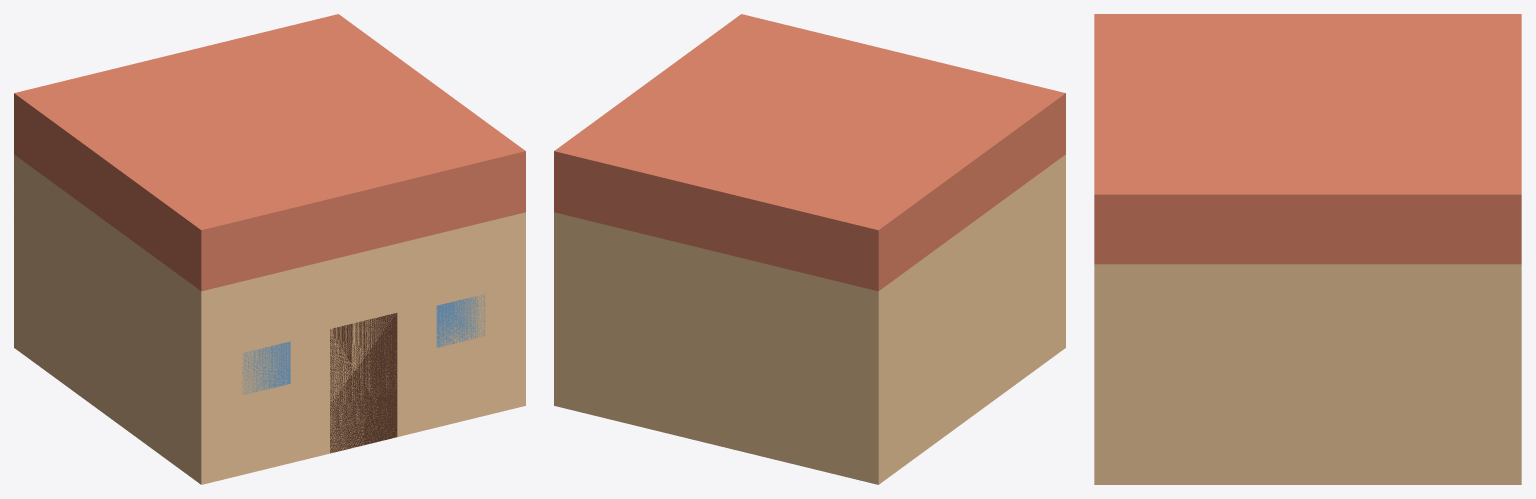
Rendered from gedung_rumah.fbx.
3 views of the same model, side by side, from view 1: azimuth 30°, elevation 25°; view 2: azimuth 150°, elevation 25°; view 3: azimuth 270°, elevation 25° (orthographic). The views are drawn at different scales.
Visible parts, largest first — view 1: gedung_rumah; view 2: gedung_rumah; view 3: gedung_rumah.
Part boxes in pixels (left/top/right/bottom): gedung_rumah: left=14, top=14, right=525, bottom=484; gedung_rumah: left=554, top=14, right=1065, bottom=484; gedung_rumah: left=1094, top=14, right=1521, bottom=484.
Size of the model in its own units: 600 by 450 by 600.
1 material, 1 textured.
